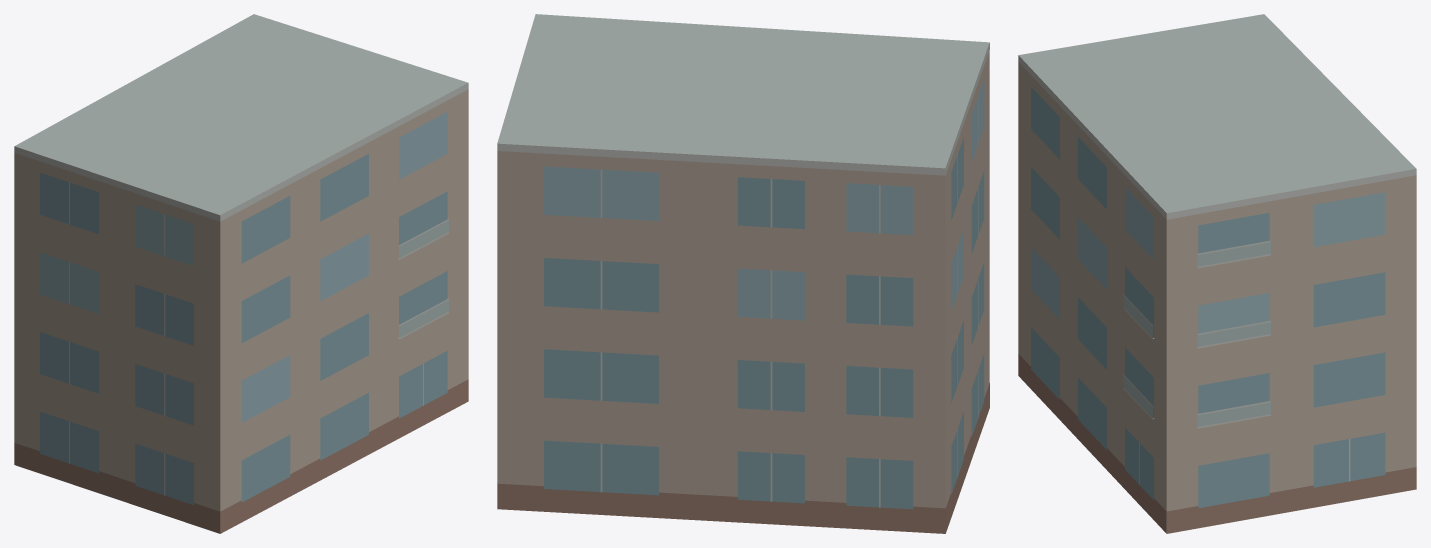
File: survey-upis-32960753.glb
The picture shows the model from 3 angles, left to right: view 1: azimuth 30°, elevation 25°; view 2: azimuth 150°, elevation 25°; view 3: azimuth 270°, elevation 25°; orthographic projection. The views are drawn at different scales.
Parts seen in each view (by area): view 1: survey-upis-32960753.tmp; view 2: survey-upis-32960753.tmp; view 3: survey-upis-32960753.tmp.
Part boxes in pixels (box(x1,y1,x2,y2)): survey-upis-32960753.tmp: box(14, 14, 468, 533); survey-upis-32960753.tmp: box(497, 14, 989, 533); survey-upis-32960753.tmp: box(1018, 14, 1416, 533).
Size of the model in its own units: 16.27 by 12.2 by 13.74.
